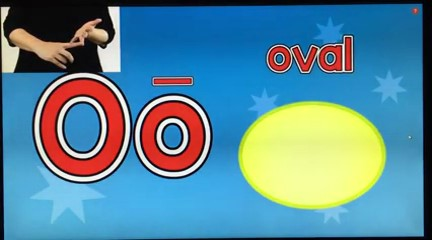O: (31, 15, 107, 70)
